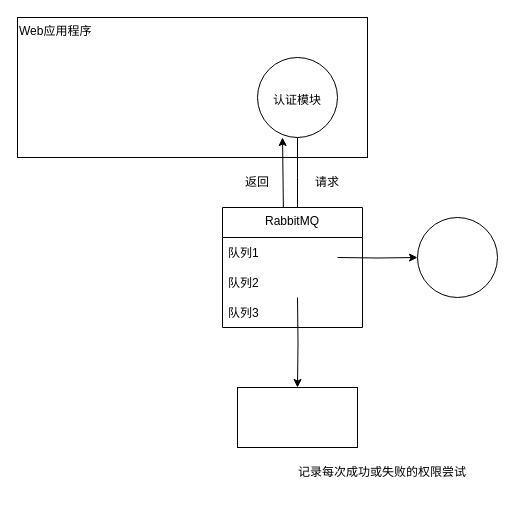
The diagram is 515 pixels wide and 505 high, and some of its shapes have lost their labels. The shapes that lost their labels are listed below. From the top down, each one's centre as x and y in pixels, then its label:
At pixel 457 257: "认证服务器".
At pixel 297 417: "小程序".
